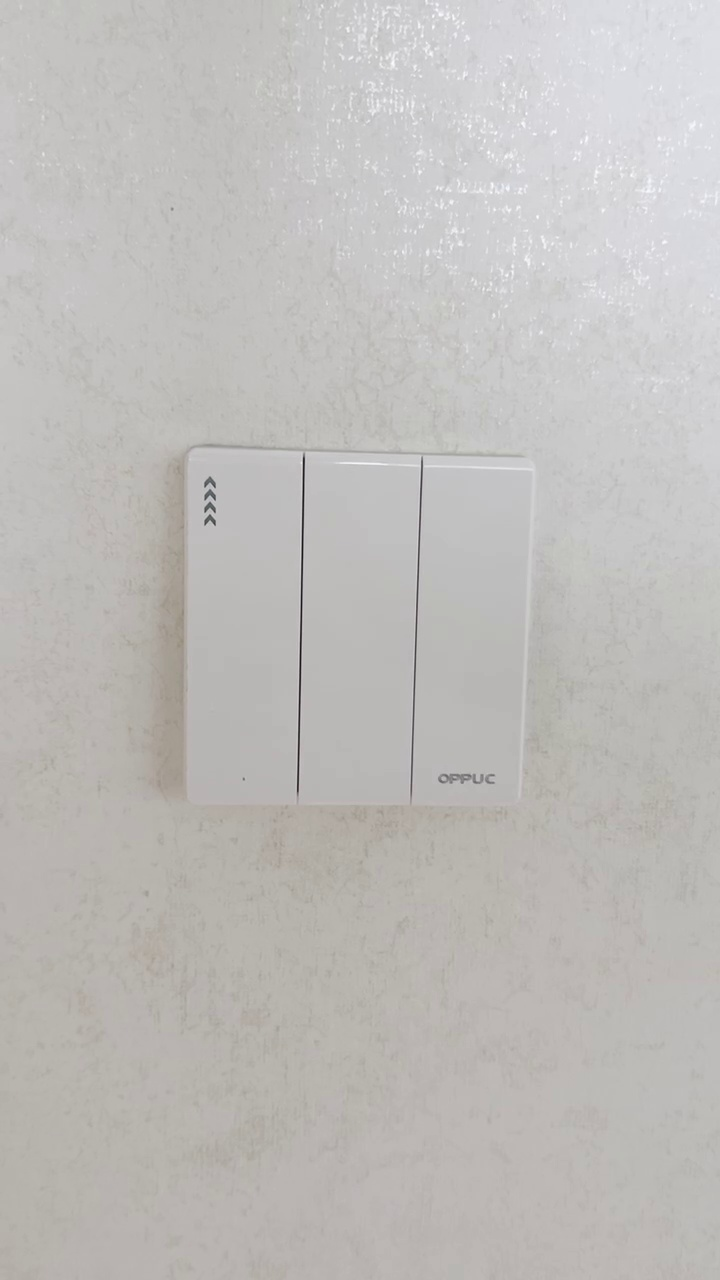button1: (302, 458, 415, 801), (190, 457, 300, 803), (420, 460, 522, 805)
